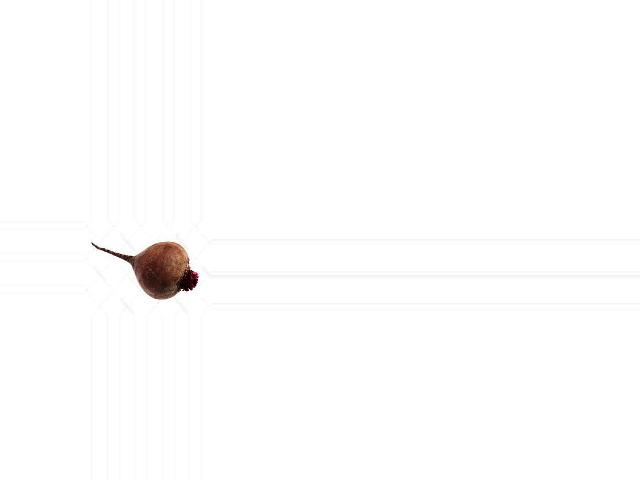beet: (91, 241, 197, 301)
